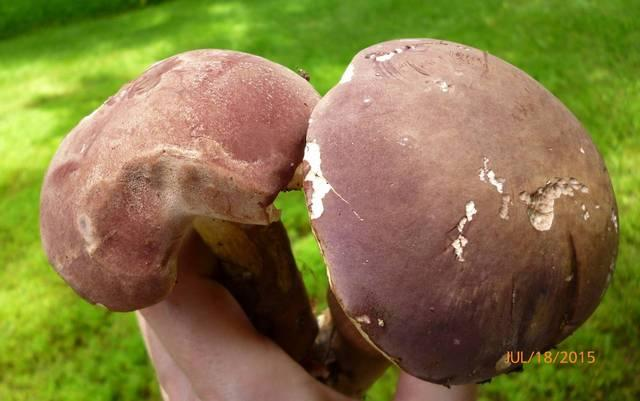poisonous_mushroom: (300, 35, 620, 389), (37, 46, 323, 368)
